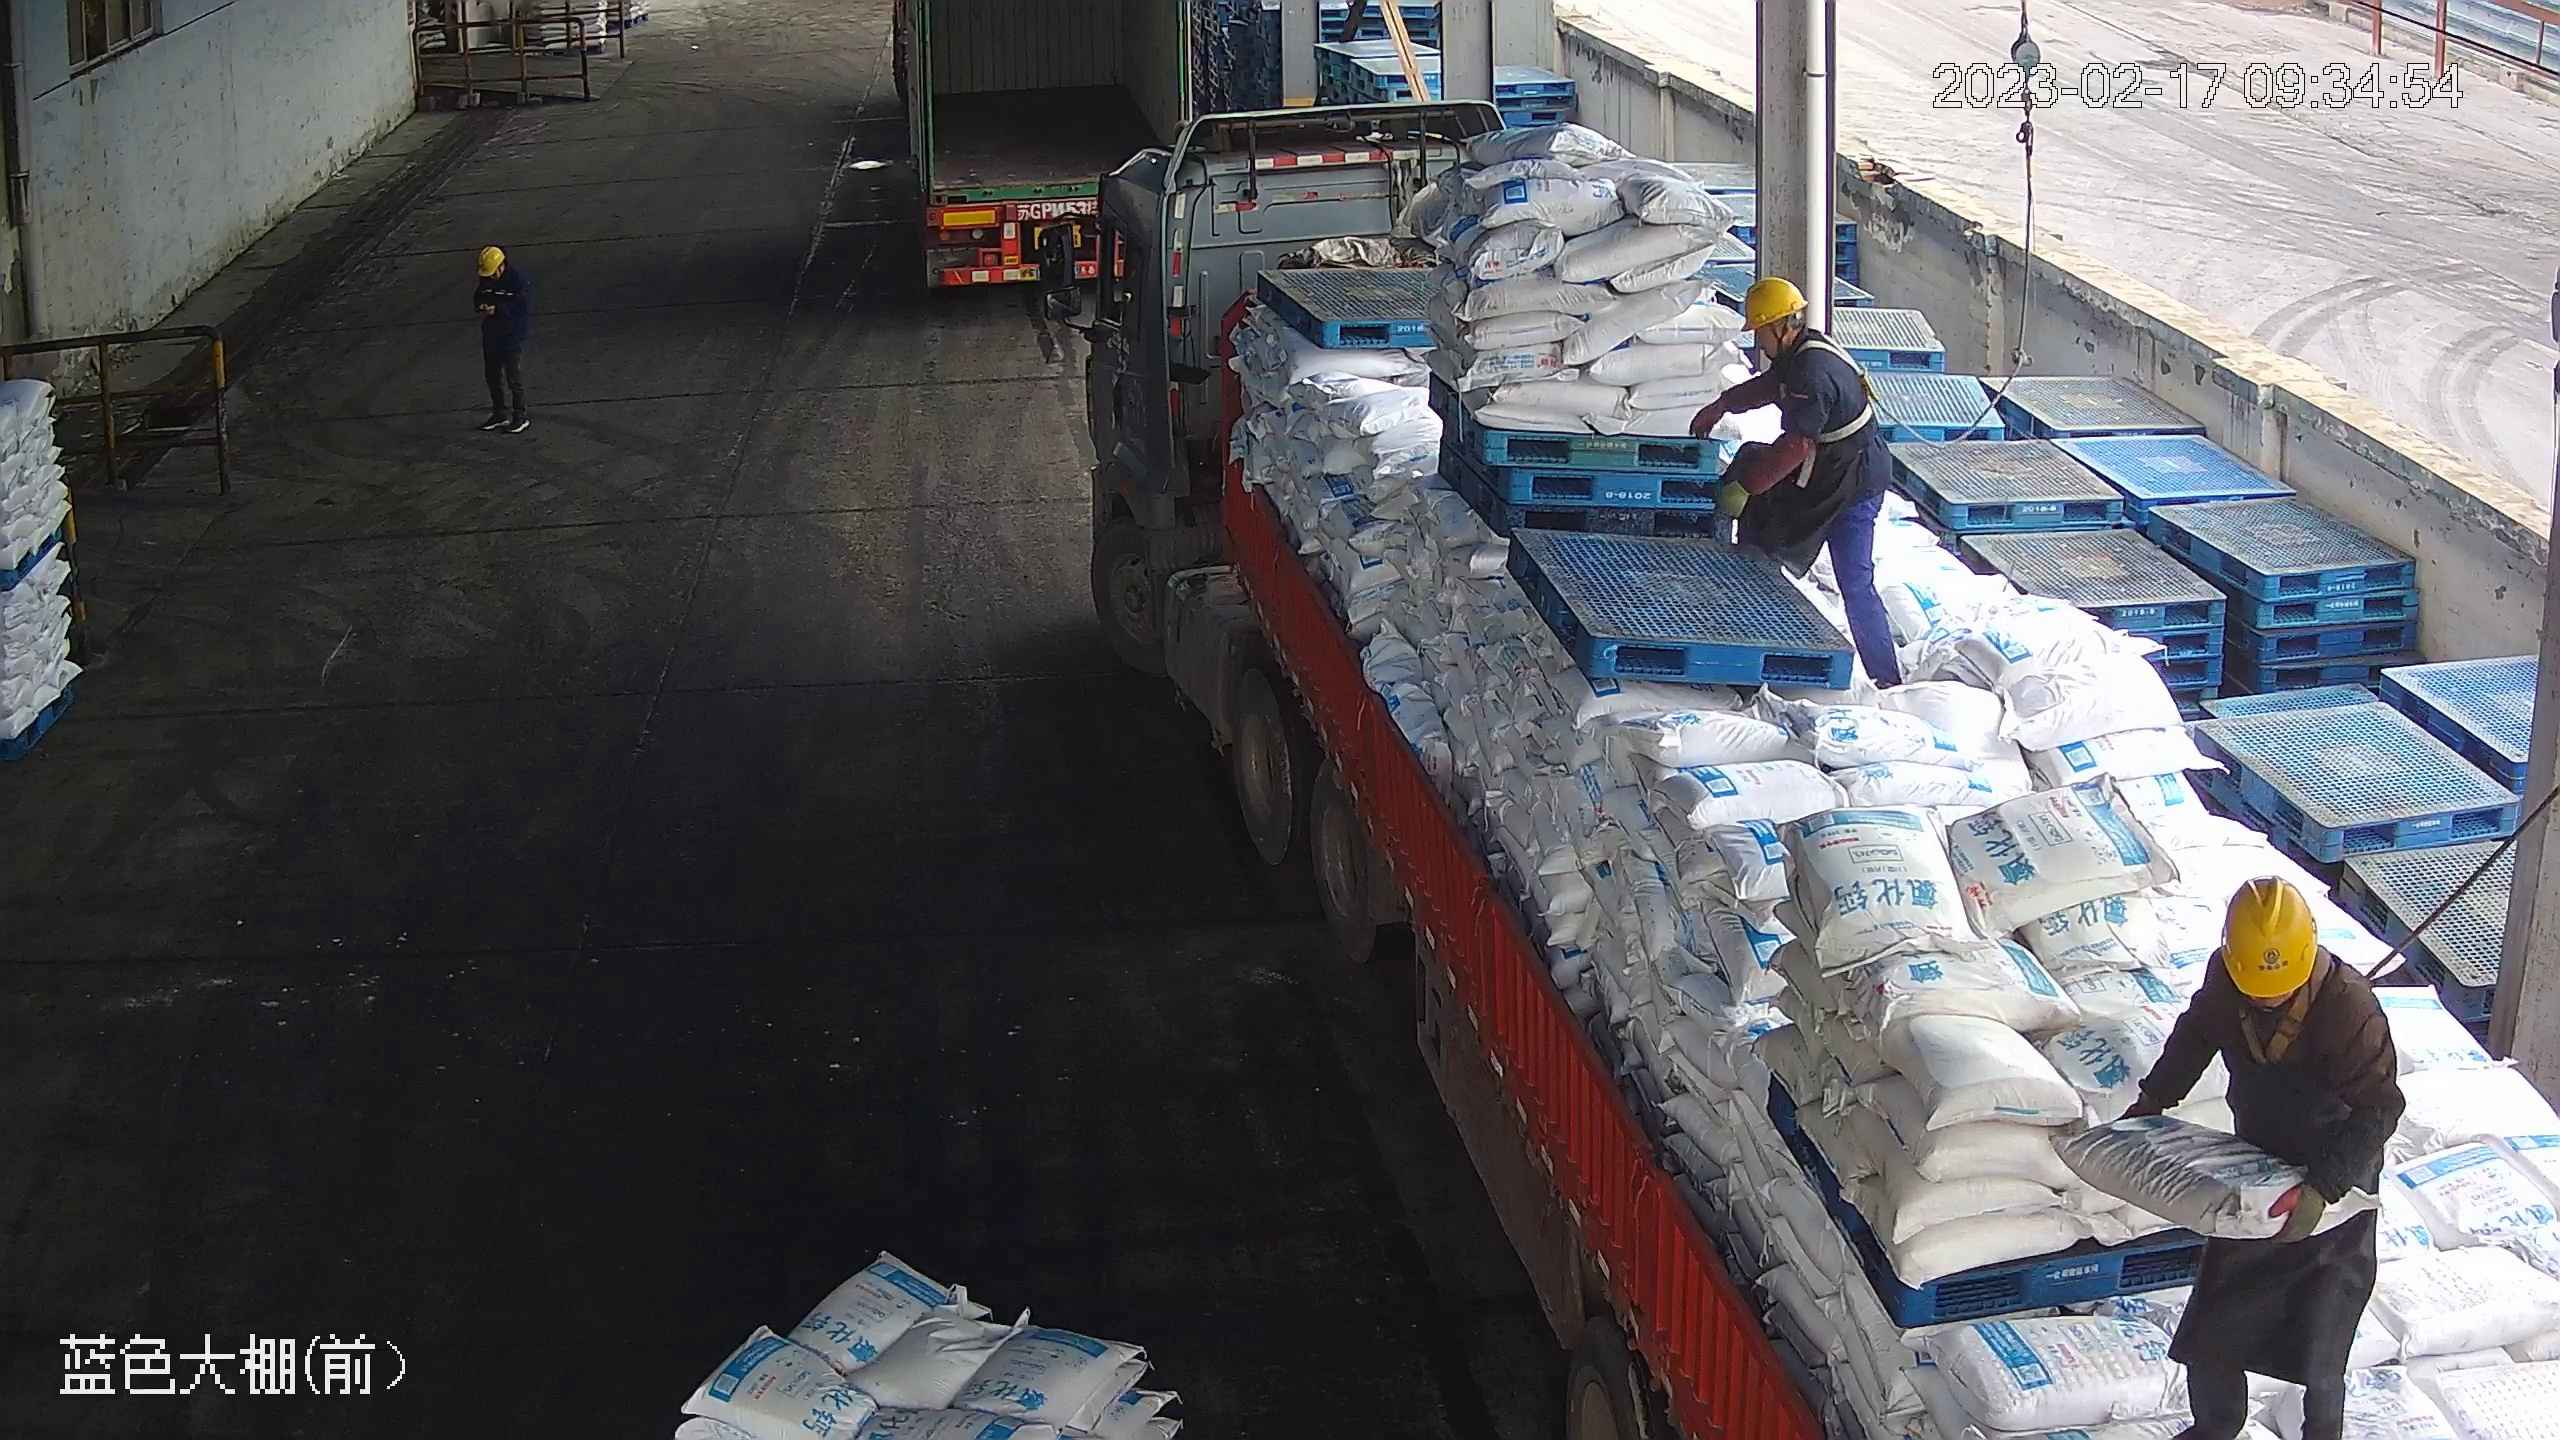belt: (2223, 955, 2371, 1070), (1786, 335, 1889, 445)
head: (2177, 872, 2378, 1057), (1735, 276, 1865, 397), (471, 246, 528, 299)
helmet: (2218, 876, 2319, 1000), (1737, 274, 1806, 330), (474, 246, 504, 273)
people: (2125, 874, 2400, 1438), (1698, 270, 1899, 690), (470, 244, 534, 436)
truck: (1020, 101, 2554, 1439), (886, 1, 1194, 293)
